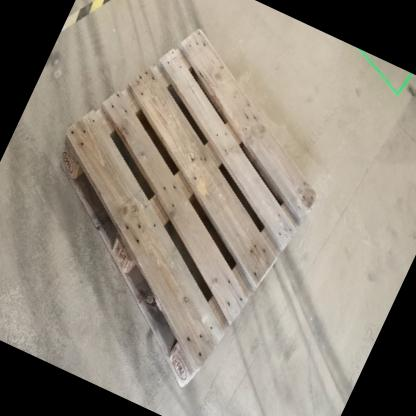BoxFace: (54, 19, 325, 397)
